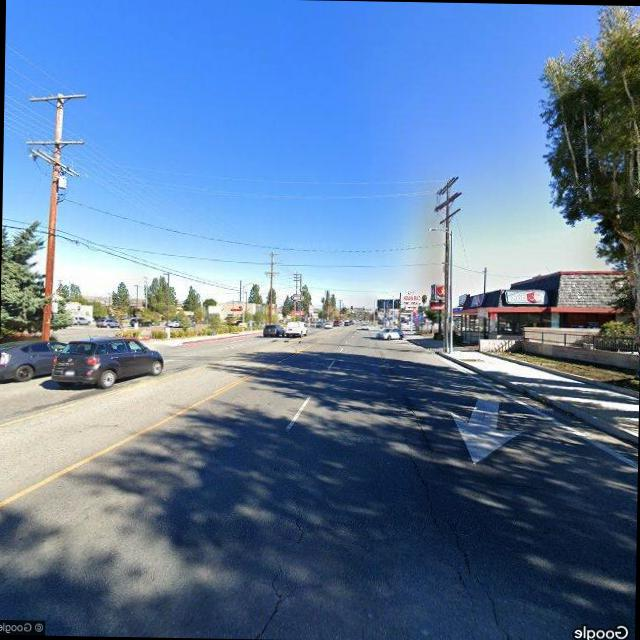pothole: (412, 450, 511, 630), (253, 457, 320, 632), (406, 396, 436, 450)
